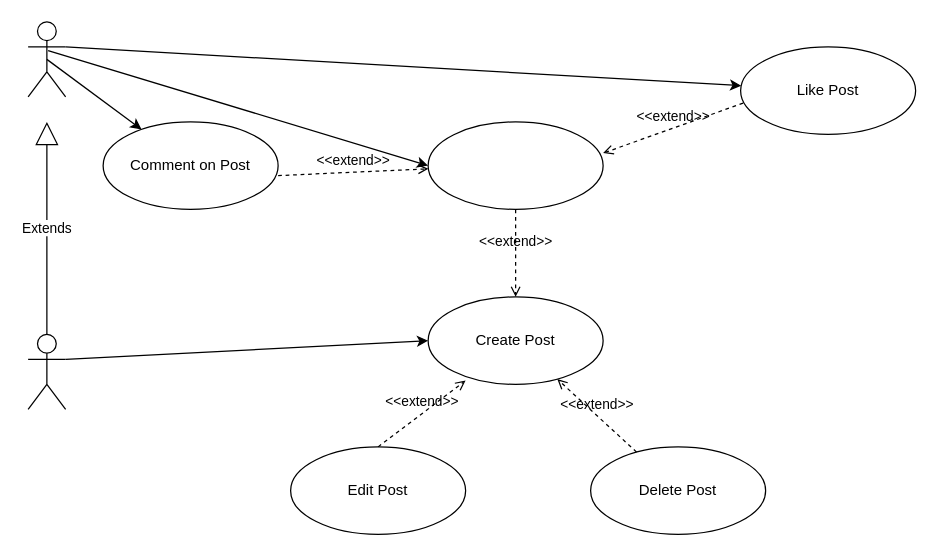
The diagram is 938 pixels wide and 556 high, and some of its shapes have lost their labels. The shapes that lost their labels are listed below. From the top down, each one's centre as x and y in pixels, then its label:
At point 46,59: "User".
At point 515,165: "View Post".
At point 46,371: "Blogger".
